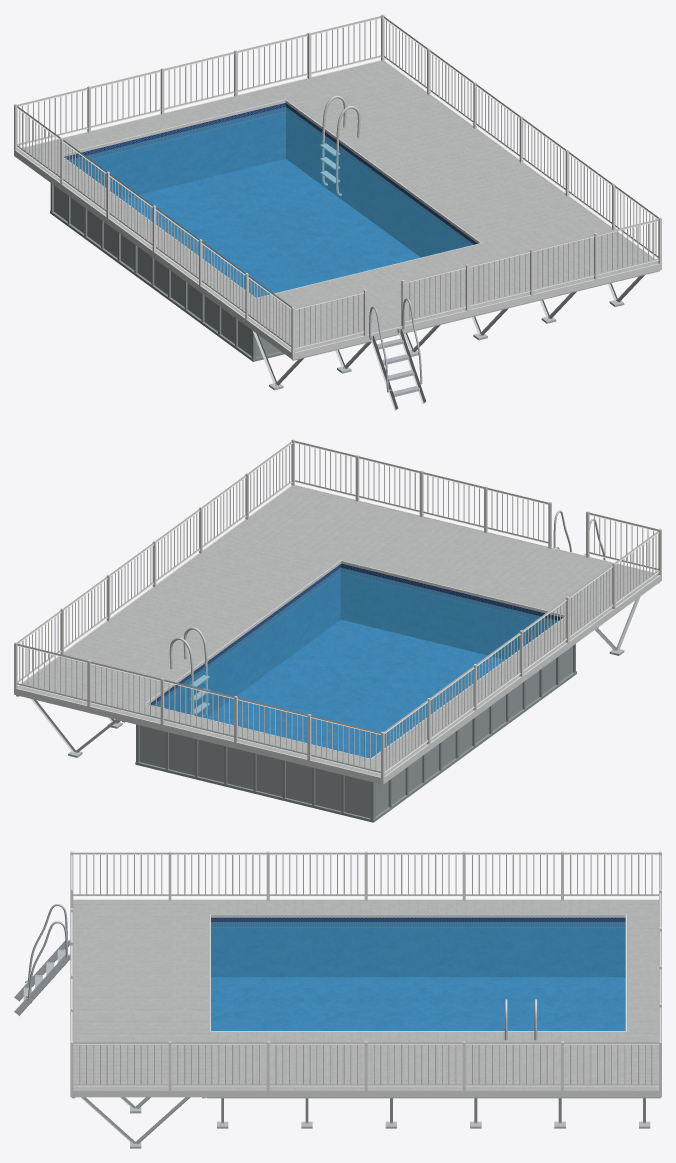
The model's file is kayak-pool-16x24-gray-endside-ag-fence.fdce1343f8.glb.
3 views of the same model, one above another, from view 1: azimuth 30°, elevation 25°; view 2: azimuth 150°, elevation 25°; view 3: azimuth 270°, elevation 25° (orthographic). The views are drawn at different scales.
Parts seen in each view (by area): view 1: deck, water, fence, liner_floor, liner_wall, fascia, wall, upright, stud, ladder, steel; view 2: deck, water, fence, liner_floor, liner_wall, wall, fascia, upright, stud, steel; view 3: deck, water, liner_wall, liner_floor, fence, fascia, stud, ladder.
Part boxes in pixels (left/top/right/bottom): deck: left=17, top=61, right=658, bottom=352; water: left=68, top=107, right=473, bottom=297; fence: left=14, top=14, right=661, bottom=353; liner_floor: left=122, top=159, right=420, bottom=297; liner_wall: left=64, top=103, right=477, bottom=257; fascia: left=14, top=60, right=661, bottom=359; wall: left=54, top=185, right=280, bottom=357; upright: left=50, top=183, right=284, bottom=361; stud: left=230, top=270, right=659, bottom=390; ladder: left=369, top=298, right=426, bottom=410; steel: left=320, top=95, right=360, bottom=195; deck: left=17, top=485, right=658, bottom=776; water: left=153, top=568, right=558, bottom=758; fence: left=14, top=439, right=661, bottom=778; liner_floor: left=206, top=620, right=504, bottom=758; liner_wall: left=149, top=563, right=562, bottom=718; wall: left=139, top=646, right=572, bottom=818; fascia: left=14, top=485, right=661, bottom=784; upright: left=135, top=644, right=576, bottom=822; stud: left=16, top=582, right=659, bottom=757; steel: left=169, top=627, right=209, bottom=717; deck: left=73, top=900, right=658, bottom=1089; water: left=211, top=922, right=625, bottom=1030; liner_wall: left=211, top=917, right=625, bottom=977; liner_floor: left=211, top=977, right=625, bottom=1030; fence: left=70, top=851, right=661, bottom=1090; fascia: left=70, top=899, right=661, bottom=1097; stud: left=72, top=1097, right=660, bottom=1148; ladder: left=14, top=904, right=70, bottom=1015.
Size of the model in its own units: 7.93 by 2.15 by 11.35.
11 materials, 3 textured.
